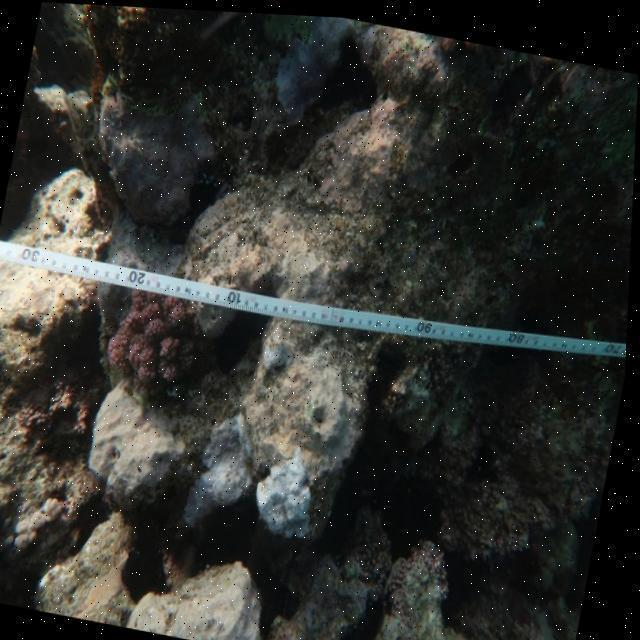Healthy Coral: (94, 272, 214, 414)
